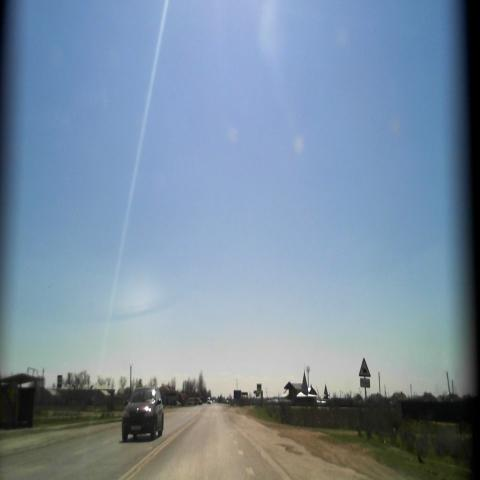1_26: (359, 355, 371, 377)
